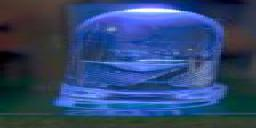LED: (57, 9, 229, 121)
